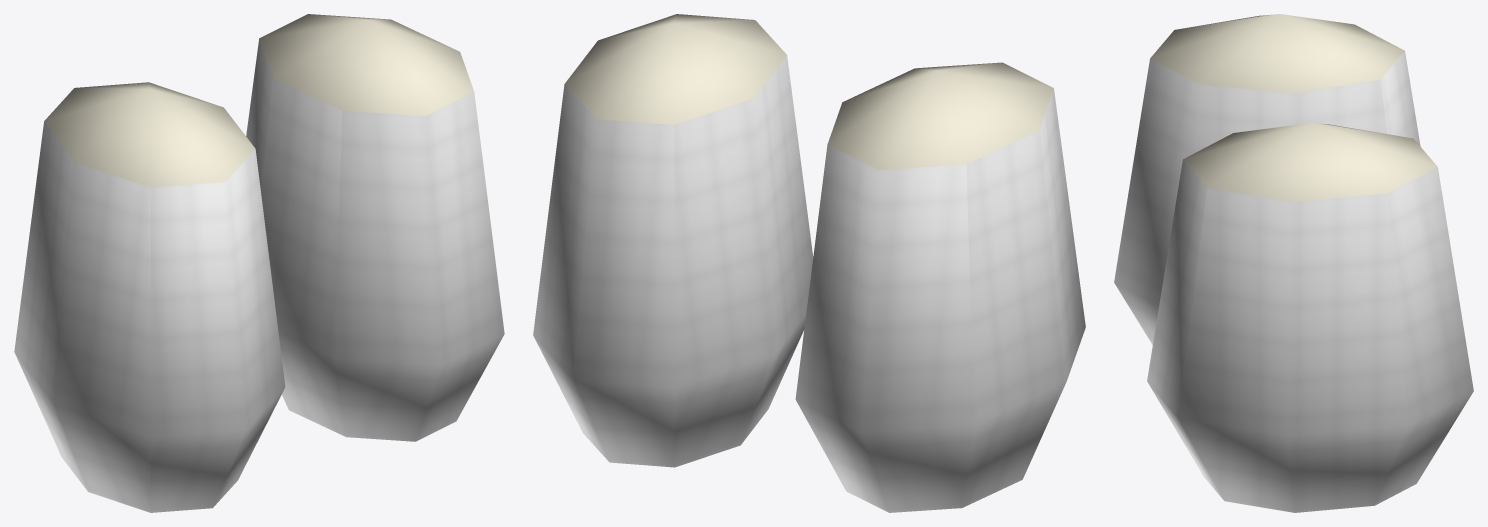
File: food_rice_b.obj
3 renders of one model, left to right at view 1: azimuth 30°, elevation 25°; view 2: azimuth 150°, elevation 25°; view 3: azimuth 270°, elevation 25°, orthographic. The views are drawn at different scales.
Visible parts, largest first — view 1: sack_1, sack_2; view 2: sack_1, sack_2; view 3: sack_2, sack_1.
Boxes of the visible parts, x1,y1,x2,y2 form: sack_1: (14,82,285,512); sack_2: (246,14,504,441); sack_1: (795,62,1085,512); sack_2: (533,14,813,467); sack_2: (1147,122,1473,512); sack_1: (1114,14,1420,344).
Size of the model in its own units: 0.3939 by 0.3168 by 0.2878.
